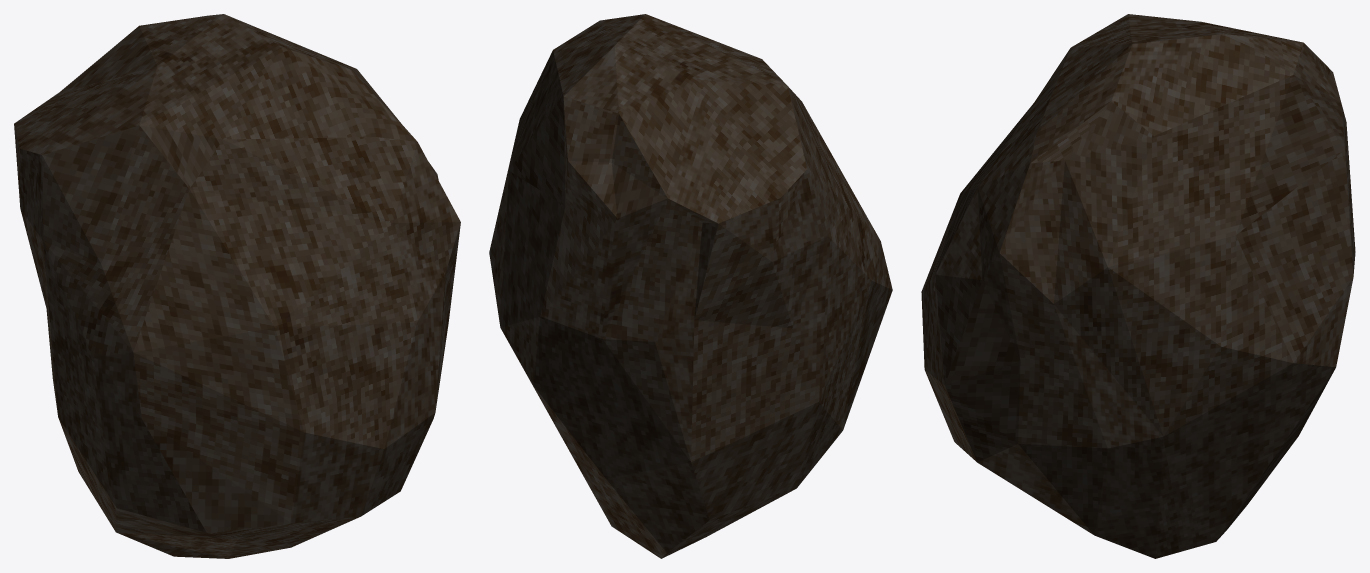
The model's file is cave-stone-piece1.glb.
3 renders of one model, left to right at view 1: azimuth 30°, elevation 25°; view 2: azimuth 150°, elevation 25°; view 3: azimuth 270°, elevation 25°, orthographic. The views are drawn at different scales.
Parts seen in each view (by area): view 1: Cube_cell.005; view 2: Cube_cell.005; view 3: Cube_cell.005.
Part boxes in pixels (left/top/right/bottom): Cube_cell.005: left=14, top=14, right=460, bottom=558; Cube_cell.005: left=489, top=14, right=892, bottom=558; Cube_cell.005: left=921, top=14, right=1355, bottom=558.
Size of the model in its own units: 0.7084 by 0.9836 by 0.7435.
1 material, 1 textured.
